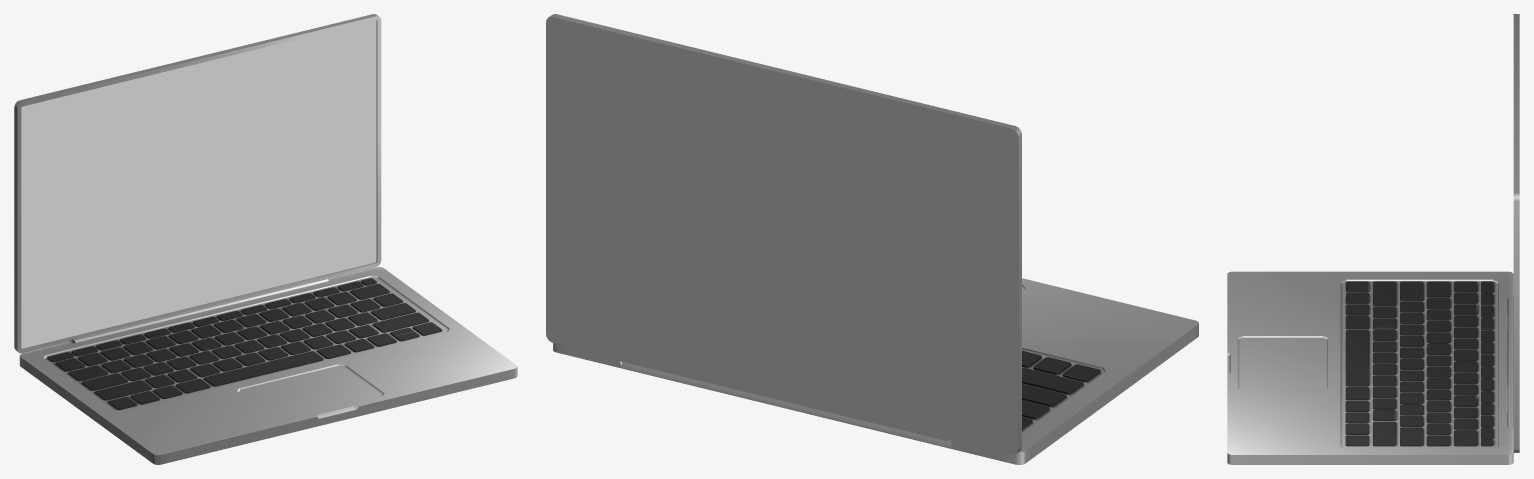
Rendered from laptop.glb.
The picture shows the model from 3 angles, left to right: view 1: azimuth 30°, elevation 25°; view 2: azimuth 150°, elevation 25°; view 3: azimuth 270°, elevation 25°; orthographic projection. The views are drawn at different scales.
Parts seen in each view (by area): view 1: Cube.001, Cube; view 2: Cube.001, Cube; view 3: Cube, Cube.001.
Part boxes in pixels (x1=…): Cube.001: x1=14, y1=14, x2=381, y2=353; Cube: x1=19, y1=267, x2=517, y2=464; Cube.001: x1=546, y1=14, x2=1021, y2=454; Cube: x1=553, y1=278, x2=1198, y2=464; Cube: x1=1227, y1=271, x2=1513, y2=464; Cube.001: x1=1508, y1=14, x2=1519, y2=452.
Size of the model in its own units: 0.3047 by 0.2087 by 0.2053.
Materials: 4 (3 with a texture image).
